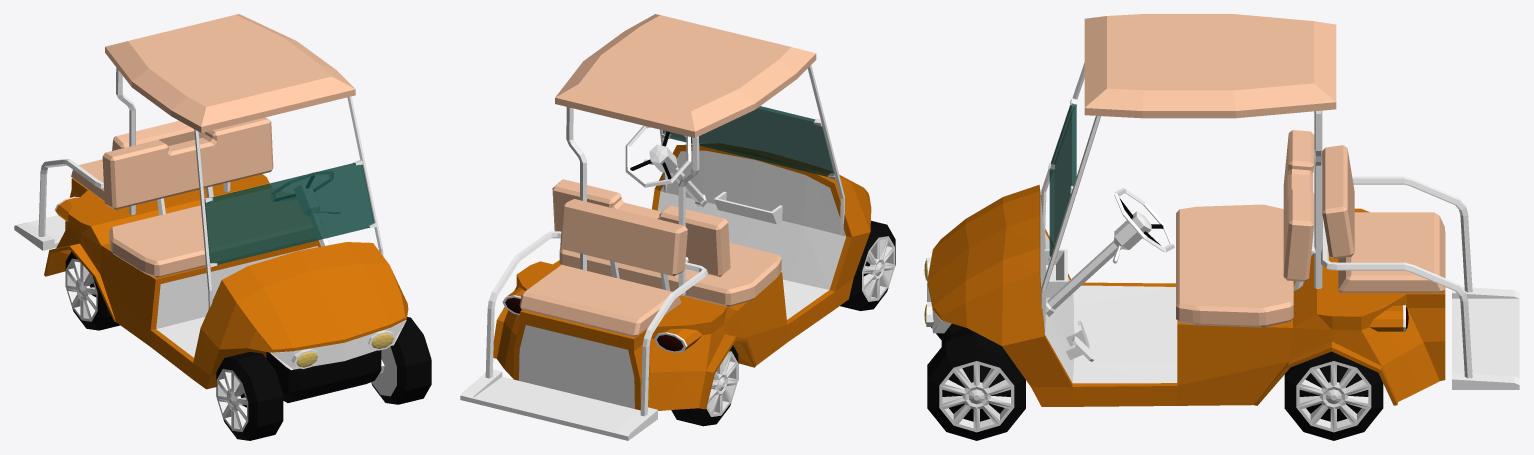
The model's file is GolfCart_01.FBX.
3 views of the same model, side by side, from view 1: azimuth 30°, elevation 25°; view 2: azimuth 150°, elevation 25°; view 3: azimuth 270°, elevation 25° (orthographic). The views are drawn at different scales.
Visible parts, largest first — view 1: GolfCart_01, seat_f, windshield, wheel_f_r, wheel_f_l, wheel_b_r, seat_b, lights, steering, steeringWheel, headLights; view 2: GolfCart_01, seat_b, seat_f, windshield, wheel_f_r, wheel_b_r, steeringWheel, storageTray, lights, steering, tailLights; view 3: GolfCart_01, seat_f, seat_b, wheel_f_l, wheel_b_l, windshield, steering, steeringWheel, lights, storageTray.
Boxes of the visible parts, bbox=[...] form: GolfCart_01: bbox=[14, 14, 408, 402]; seat_f: bbox=[102, 117, 316, 277]; windshield: bbox=[204, 160, 376, 267]; wheel_f_r: bbox=[216, 352, 283, 440]; wheel_f_l: bbox=[371, 317, 431, 404]; wheel_b_r: bbox=[65, 252, 119, 330]; seat_b: bbox=[71, 121, 205, 206]; lights: bbox=[54, 196, 396, 368]; steering: bbox=[298, 192, 339, 246]; steeringWheel: bbox=[271, 171, 332, 201]; headLights: bbox=[296, 333, 393, 367]; GolfCart_01: bbox=[460, 14, 871, 440]; seat_b: bbox=[519, 199, 687, 337]; seat_f: bbox=[552, 179, 781, 306]; windshield: bbox=[661, 106, 835, 179]; wheel_f_r: bbox=[840, 220, 895, 310]; wheel_b_r: bbox=[671, 345, 738, 426]; steeringWheel: bbox=[625, 125, 691, 187]; storageTray: bbox=[714, 191, 782, 224]; lights: bbox=[502, 287, 702, 352]; steering: bbox=[643, 151, 706, 207]; tailLights: bbox=[505, 297, 683, 351]; GolfCart_01: bbox=[927, 14, 1519, 406]; seat_f: bbox=[1176, 130, 1314, 327]; seat_b: bbox=[1322, 145, 1444, 292]; wheel_f_l: bbox=[927, 332, 1025, 440]; wheel_b_l: bbox=[1284, 351, 1383, 440]; windshield: bbox=[1048, 98, 1077, 264]; steering: bbox=[1046, 220, 1142, 316]; steeringWheel: bbox=[1114, 188, 1174, 252]; lights: bbox=[926, 258, 1405, 331]; storageTray: bbox=[1044, 249, 1067, 297].
Size of the model in its own units: 19.06 by 24.92 by 39.69.
